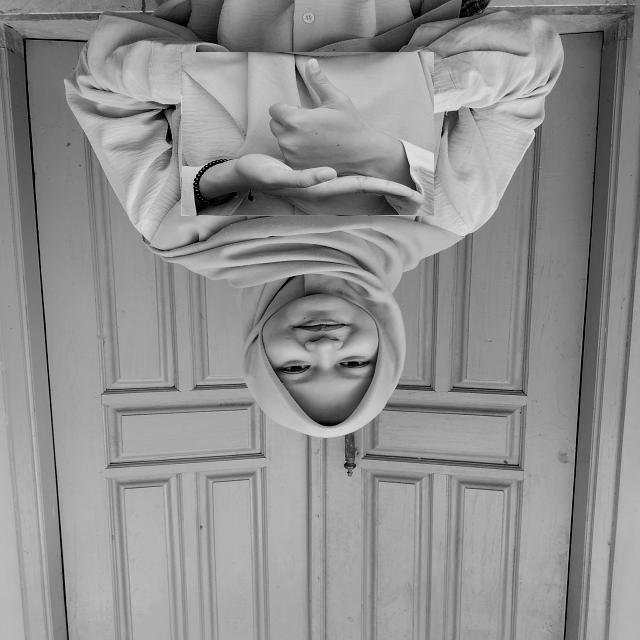cantik: (181, 52, 434, 216)
